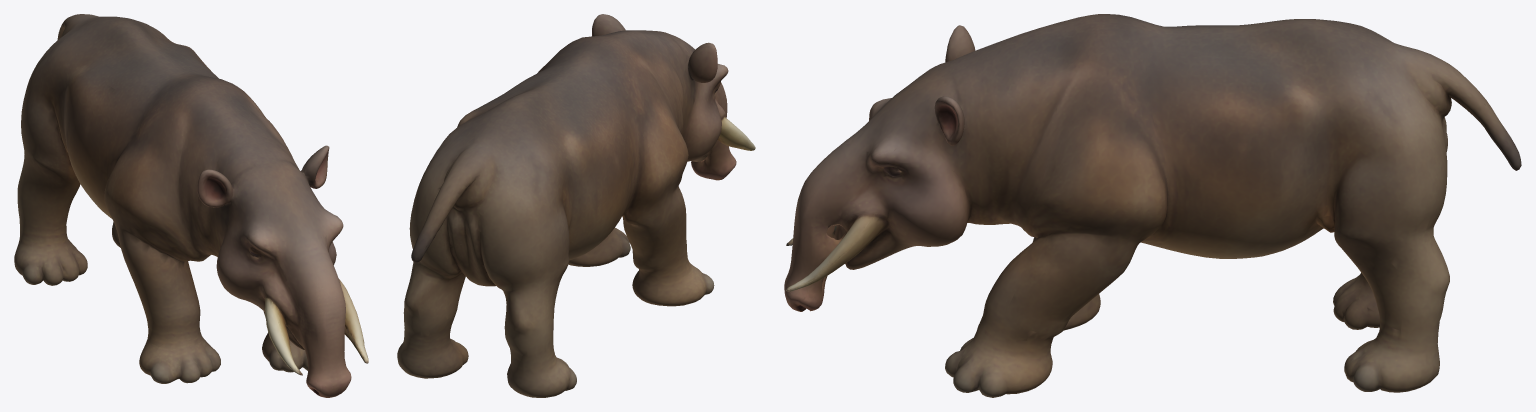
The picture shows the model from 3 angles, left to right: view 1: azimuth 30°, elevation 25°; view 2: azimuth 150°, elevation 25°; view 3: azimuth 270°, elevation 25°; orthographic projection. The views are drawn at different scales.
Parts seen in each view (by area): view 1: world; view 2: world; view 3: world.
Part boxes in pixels (x1,y1,x2,y2): world: [14, 14, 368, 397]; world: [397, 14, 755, 397]; world: [784, 14, 1521, 397].
Size of the model in its own units: 1.12 by 1.58 by 3.23.
1 material, 1 textured.
